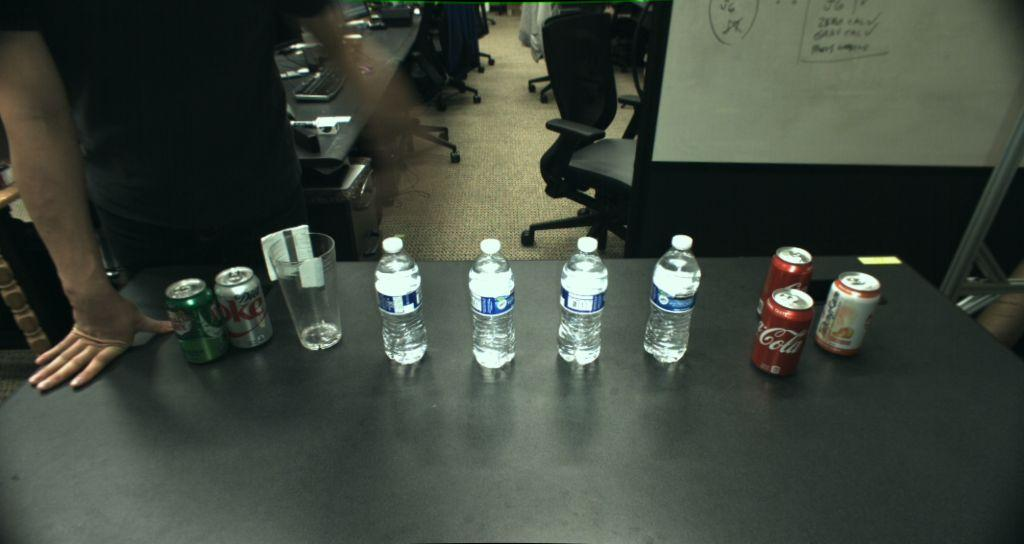can_coke: (752, 289, 812, 377), (757, 243, 813, 325)
can_diet_coke: (213, 265, 273, 350)
can_ginger_ale: (165, 279, 229, 364)
can_talking_rain_peach_nectarine: (815, 272, 880, 356)
water_bottle: (643, 234, 701, 363), (375, 237, 427, 365), (557, 236, 608, 365), (469, 238, 515, 368)
